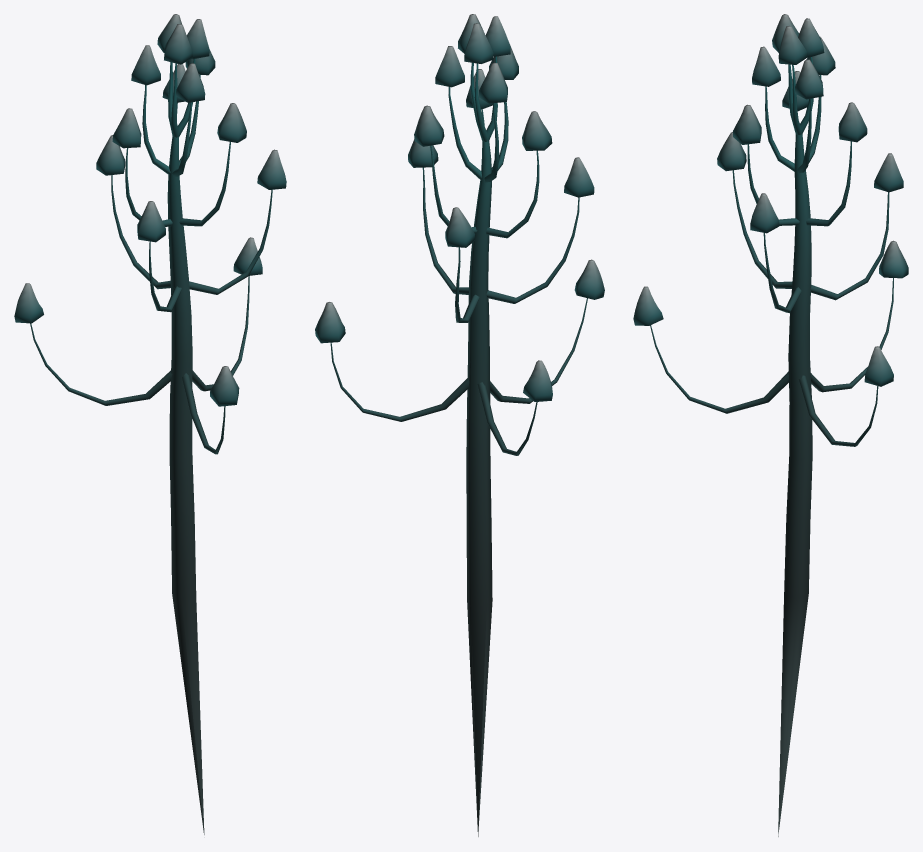
File: plants-flowers-teal-bell-flower_v5.fbx
3 renders of one model, left to right at view 1: azimuth 30°, elevation 25°; view 2: azimuth 150°, elevation 25°; view 3: azimuth 270°, elevation 25°, orthographic. The views are drawn at different scales.
Visible parts, largest first — view 1: Teal Bell Flower_v5; view 2: Teal Bell Flower_v5; view 3: Teal Bell Flower_v5.
Part boxes in pixels (x1,y1,x2,y2): Teal Bell Flower_v5: (14,14,286,834); Teal Bell Flower_v5: (315,14,604,836); Teal Bell Flower_v5: (633,14,908,836).
Bounding box in the file's own units: 0.1851 × 0.6 × 0.1842.
